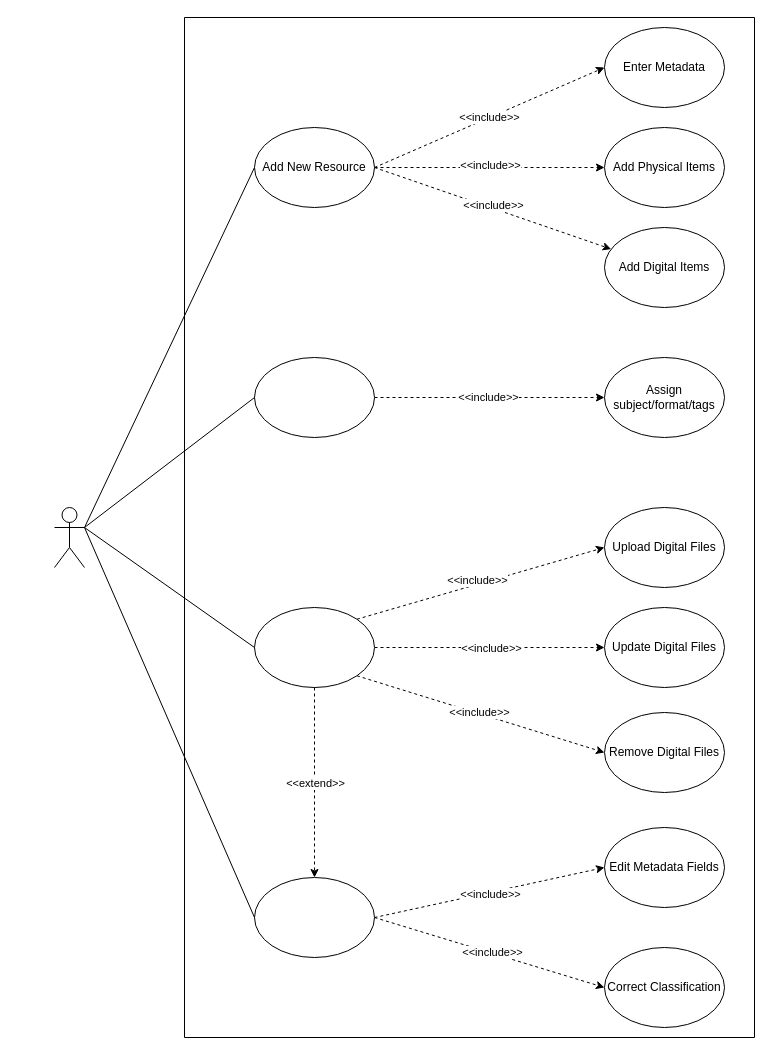
Image size: 772x1055. Some labels were removed from this diagram. The shapes that lost their labels are listed below. From the top down, each one's centre as x and y in pixels, then its label:
At point 314,397: "Catagorise Resource".
At point 69,537: "Catalogue Manager".
At point 314,647: "Manage Digital Content".
At point 314,917: "Update Resource Details".
